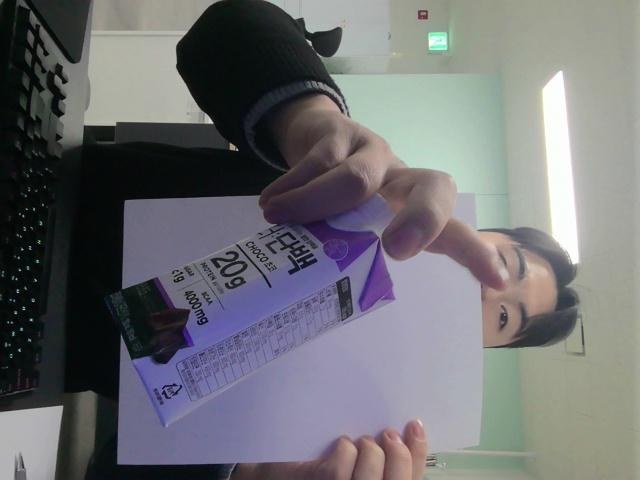milk: (105, 198, 393, 426)
